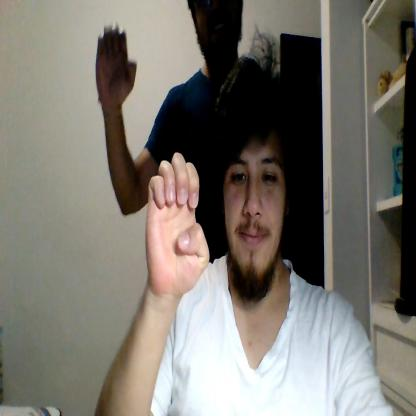E: (144, 152, 209, 294), (96, 21, 137, 104)
